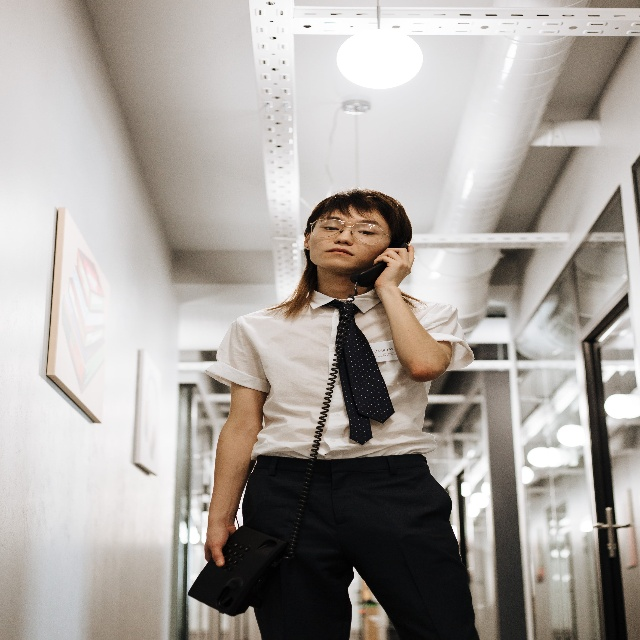Gafas: (309, 218, 391, 245)
Sin_guantes: (373, 245, 415, 290), (204, 523, 237, 567)
